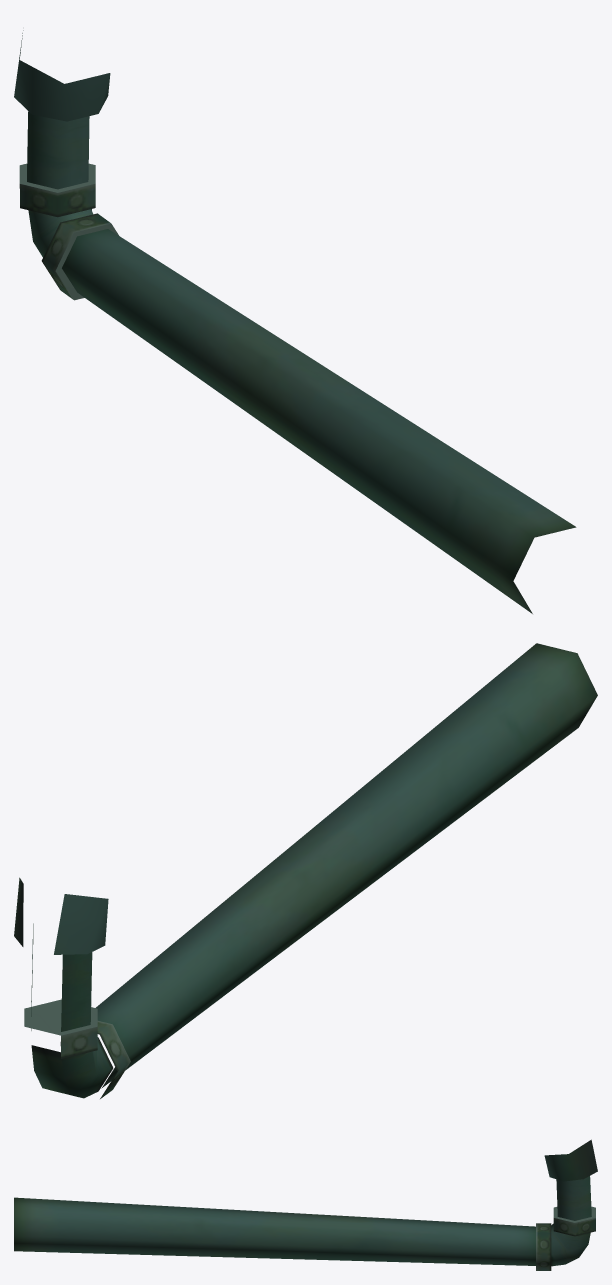
The model's file is edge_vert_up.glb.
3 views of the same model, one above another, from view 1: azimuth 30°, elevation 25°; view 2: azimuth 150°, elevation 25°; view 3: azimuth 270°, elevation 25° (orthographic). The views are drawn at different scales.
Parts seen in each view (by area): view 1: pipeworks.edge_vert_up-MeshNodes["pipe_edge_up_01b"], pipeworks.edge_vert_up-MeshNodes["pipe_edge_up_01a"]; view 2: pipeworks.edge_vert_up-MeshNodes["pipe_edge_up_01b"], pipeworks.edge_vert_up-MeshNodes["pipe_edge_up_01a"]; view 3: pipeworks.edge_vert_up-MeshNodes["pipe_edge_up_01b"], pipeworks.edge_vert_up-MeshNodes["pipe_edge_up_01a"].
Part boxes in pixels (x1,y1,x2,y2): pipeworks.edge_vert_up-MeshNodes["pipe_edge_up_01b"]: [19, 111, 576, 613]; pipeworks.edge_vert_up-MeshNodes["pipe_edge_up_01a"]: [14, 30, 110, 121]; pipeworks.edge_vert_up-MeshNodes["pipe_edge_up_01b"]: [24, 643, 597, 1098]; pipeworks.edge_vert_up-MeshNodes["pipe_edge_up_01a"]: [14, 877, 108, 954]; pipeworks.edge_vert_up-MeshNodes["pipe_edge_up_01b"]: [14, 1176, 595, 1270]; pipeworks.edge_vert_up-MeshNodes["pipe_edge_up_01a"]: [544, 1139, 597, 1181].
Size of the model in its own units: 1.56 by 3.66 by 14.58.
Materials: 1 (1 with a texture image).
